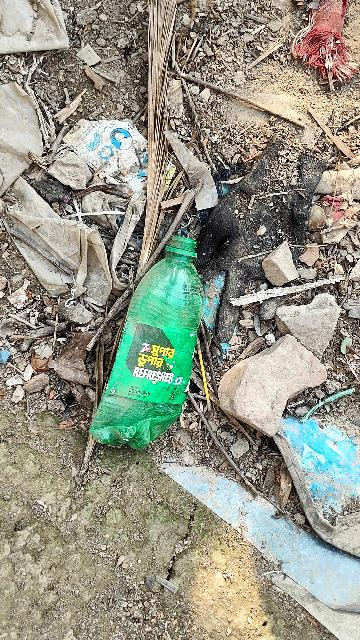bottle: (89, 237, 225, 446)
